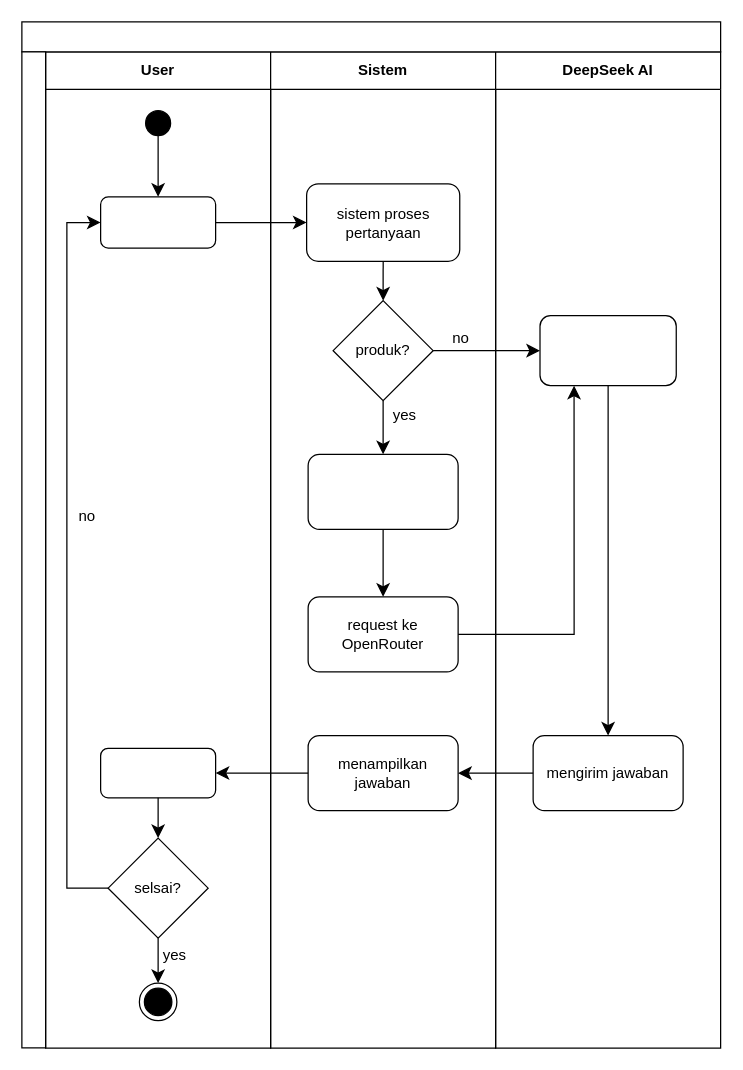
Image size: 743x1070. Some labels were removed from this diagram. The box of each missing label's shape, as (x1, y1, x2, y2) in pixels:
Actifity Diagram OpenRouter API KEY model DeepSeek AI: (21, 21, 721, 52)
input pertanyaan: (99, 196, 216, 248)
memproses ke db: (307, 453, 458, 529)
Memproses request dari backend: (539, 314, 676, 386)
menerima jawaban: (99, 747, 216, 798)
